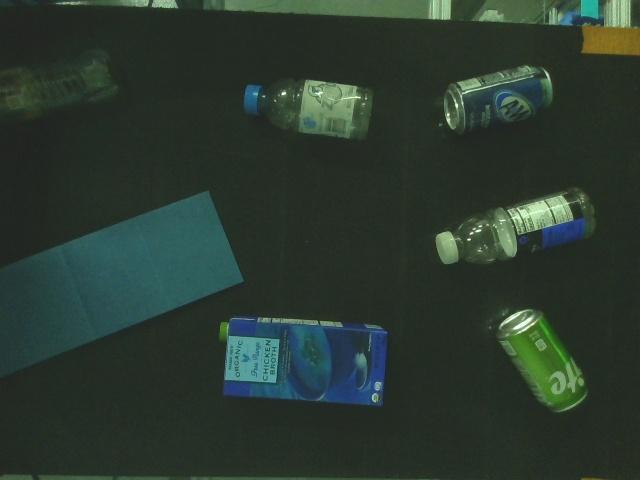cardboard: (0, 188, 247, 386), (215, 312, 393, 412)
metal: (490, 303, 594, 421), (437, 61, 563, 138)
plastic: (430, 182, 604, 272), (0, 44, 128, 131), (240, 72, 380, 148)
